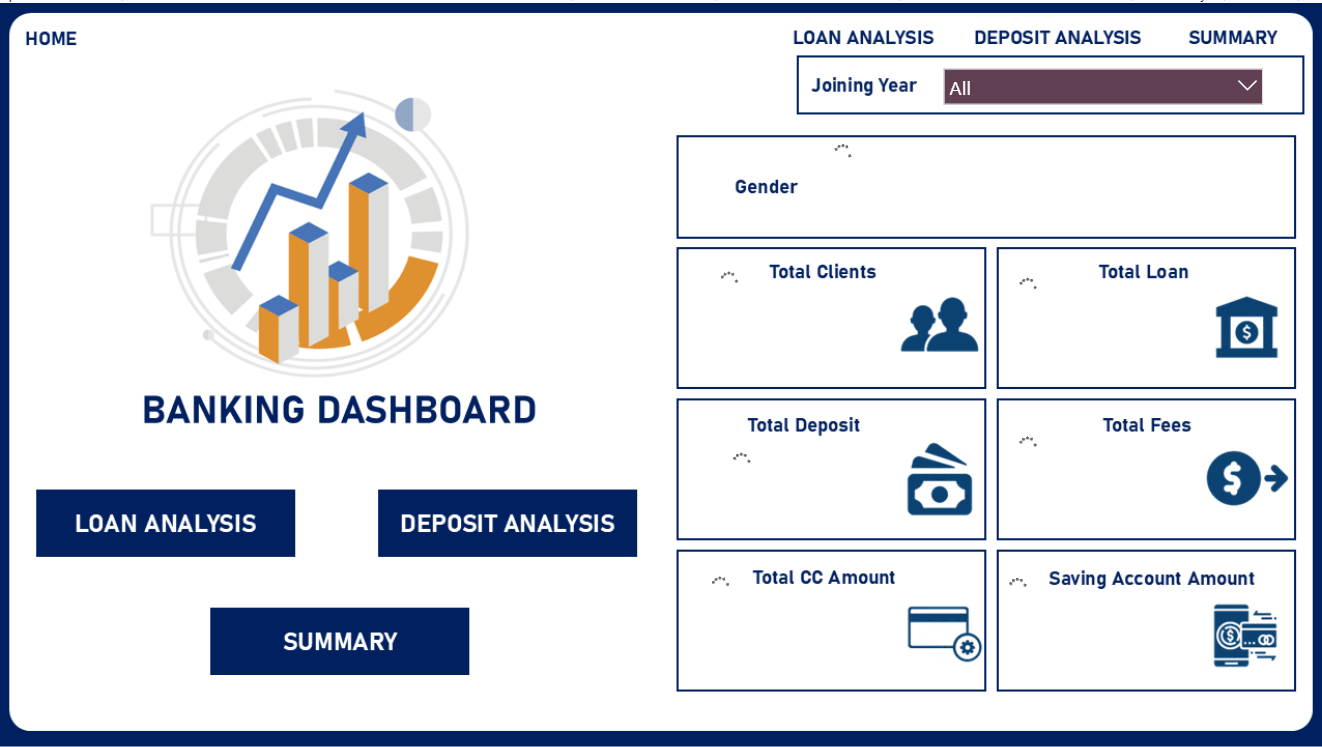

Layout of this report page (visuals, bound fields, positions):
{"tool":"powerbi","page":{"name":"Overview","canvas":[1280,720],"ordinal":0},"visuals":[{"type":"slicer","fields":{"Values":["gender.Gender"]},"box":[801.3,132.7,430,85.7],"z":0},{"type":"slicer","fields":{"Values":["banking_clients_cleaned.Joined Bank.Variation.Date Hierarchy.Year"]},"box":[902.5,52.5,328.8,50],"z":1000},{"type":"card","fields":{"Values":["Dax Measures.Total Clients"]},"box":[691.2,256.2,211.2,103.8],"z":2000},{"type":"card","fields":{"Values":["Dax Measures.Total Loan"]},"box":[980,261.2,235,93.8],"z":3000},{"type":"card","fields":{"Values":["Dax Measures.Total Deposit"]},"box":[703.8,431.2,187.5,62.5],"z":4000},{"type":"card","fields":{"Values":["Dax Measures.Total Fees"]},"box":[980,415,206.2,78.8],"z":5000},{"type":"card","fields":{"Values":["Dax Measures.Total CC Amount"]},"box":[682.5,550,237.5,95],"z":6000},{"type":"card","fields":{"Values":["Dax Measures.Savings Account"]},"box":[970,551.2,227.5,93.8],"z":7000}]}

Visuals, with their boxes in screenshot pixels (x1, y1, x2, y2), scaled from the page's 1280x720 canvas onto the 1322x747 screenshot:
slicer - gender.Gender: {"left": 828, "top": 138, "right": 1272, "bottom": 227}
slicer - banking_clients_cleaned.Joined Bank.Variation.Date Hierarchy.Year: {"left": 932, "top": 54, "right": 1272, "bottom": 106}
card - Dax Measures.Total Clients: {"left": 714, "top": 266, "right": 932, "bottom": 374}
card - Dax Measures.Total Loan: {"left": 1012, "top": 271, "right": 1255, "bottom": 368}
card - Dax Measures.Total Deposit: {"left": 727, "top": 447, "right": 921, "bottom": 512}
card - Dax Measures.Total Fees: {"left": 1012, "top": 431, "right": 1225, "bottom": 512}
card - Dax Measures.Total CC Amount: {"left": 705, "top": 571, "right": 950, "bottom": 669}
card - Dax Measures.Savings Account: {"left": 1002, "top": 572, "right": 1237, "bottom": 669}
